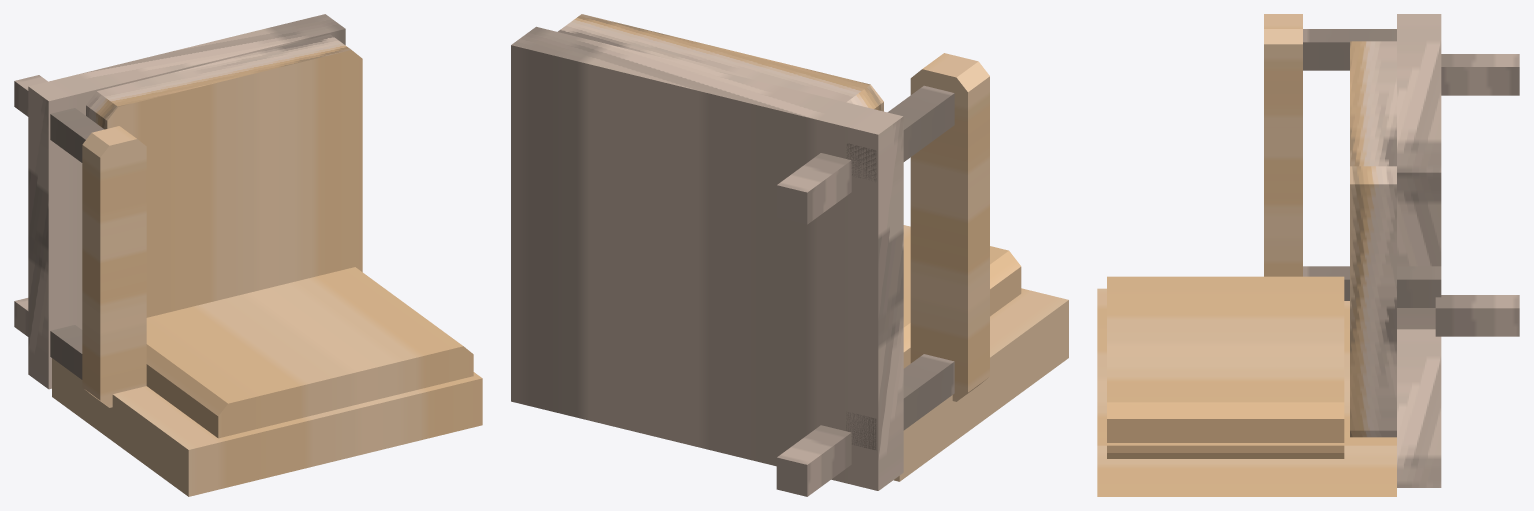
The model's file is pz_sofa_seating_indoor_03_victorian_c2_0_0.obj.
The picture shows the model from 3 angles, left to right: view 1: azimuth 30°, elevation 25°; view 2: azimuth 150°, elevation 25°; view 3: azimuth 270°, elevation 25°; orthographic projection. The views are drawn at different scales.
Bounding box in the file's own units: 0.99 × 0.915 × 1.08.
1 material, 1 textured.
